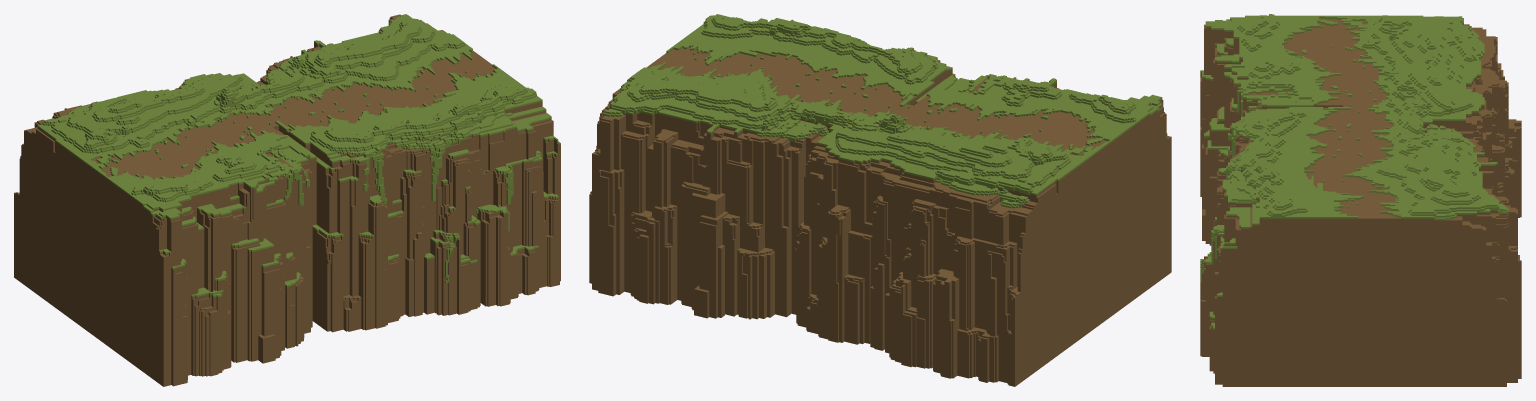
File: forest1.4-192.obj
The picture shows the model from 3 angles, left to right: view 1: azimuth 30°, elevation 25°; view 2: azimuth 150°, elevation 25°; view 3: azimuth 270°, elevation 25°; orthographic projection. The views are drawn at different scales.
Bounding box in the file's own units: 25.6 × 11.1 × 17.3.
1 material, 1 textured.
